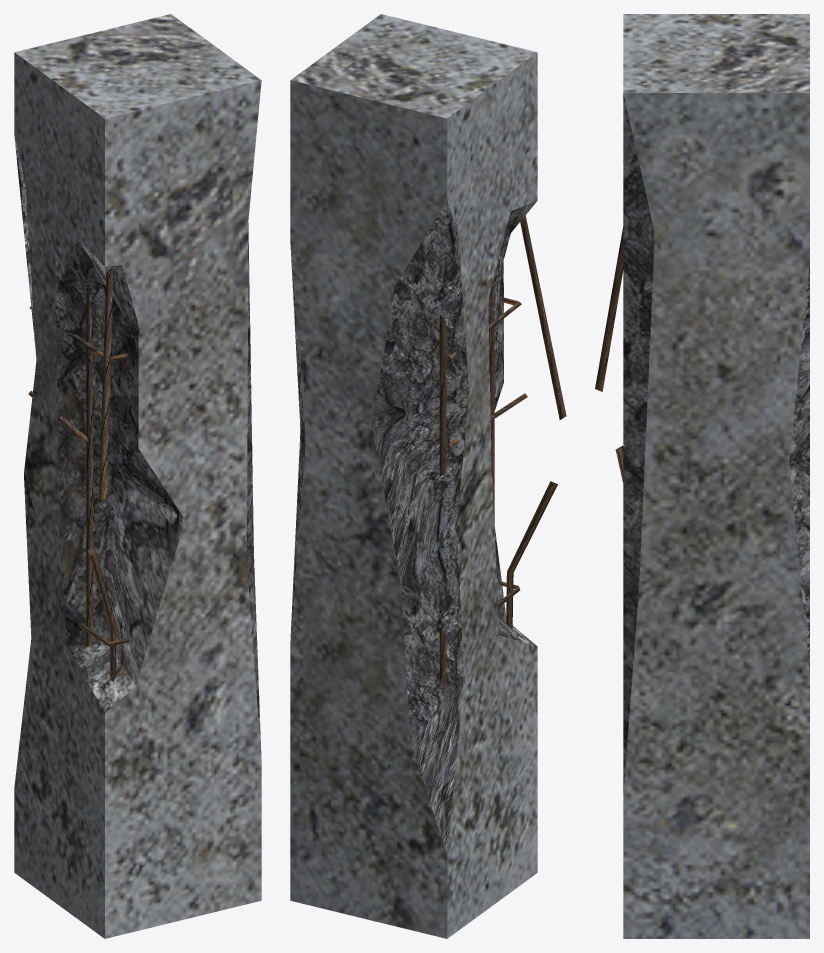
File: suishi3.FBX
3 renders of one model, left to right at view 1: azimuth 30°, elevation 25°; view 2: azimuth 150°, elevation 25°; view 3: azimuth 270°, elevation 25°, orthographic. The views are drawn at different scales.
Parts seen in each view (by area): view 1: shitou, shitou001, polySurface1409; view 2: shitou, shitou001, polySurface1409; view 3: shitou, shitou001, polySurface1409.
Part boxes in pixels (x1,y1,x2,y2): shitou: (14,14,261,938); shitou001: (14,135,261,761); polySurface1409: (28,270,129,681); shitou: (290,14,537,938); shitou001: (290,201,536,853); polySurface1409: (439,215,566,688); shitou: (623,14,809,938); shitou001: (623,94,809,794); polySurface1409: (595,227,623,482).
Size of the model in its own units: 1.05 by 4.72 by 1.09.
